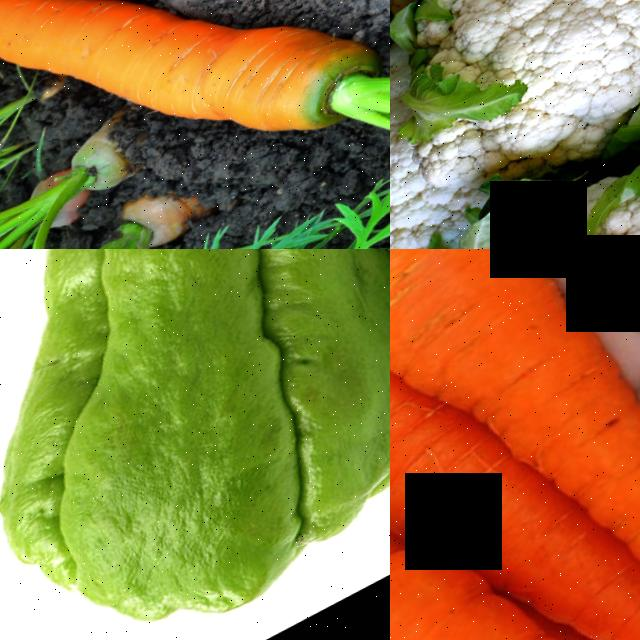carrot: (49, 0, 390, 249), (390, 249, 577, 416), (36, 133, 145, 228), (90, 205, 199, 249)
cauliflower: (390, 0, 640, 244), (466, 107, 640, 249)
chayote: (0, 249, 390, 640)
